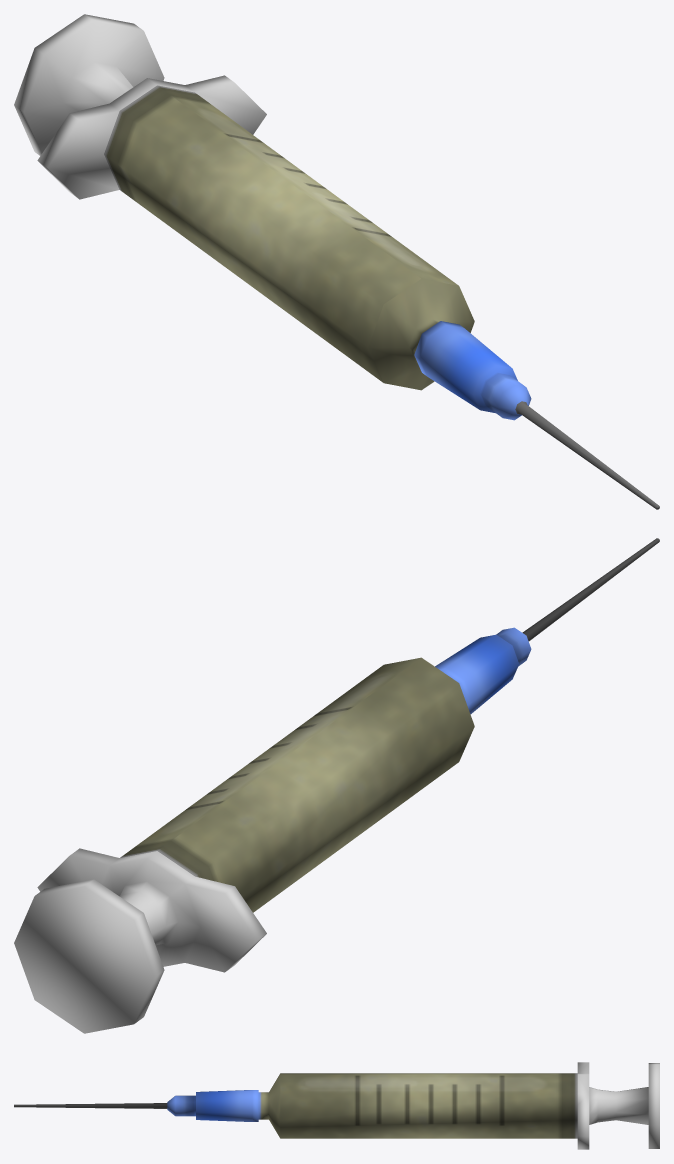
Rendered from SyringeRedo.fbx.
3 renders of one model, top to bottom at view 1: azimuth 30°, elevation 25°; view 2: azimuth 150°, elevation 25°; view 3: azimuth 270°, elevation 25°, orthographic. The views are drawn at different scales.
Visible parts, largest first — view 1: Cylinder; view 2: Cylinder; view 3: Cylinder.
Part boxes in pixels (x1,y1,x2,y2): Cylinder: (14,14,659,509); Cylinder: (14,538,659,1033); Cylinder: (14,1062,659,1149).
Size of the model in its own units: 0.0387 by 0.0248 by 0.1751.
